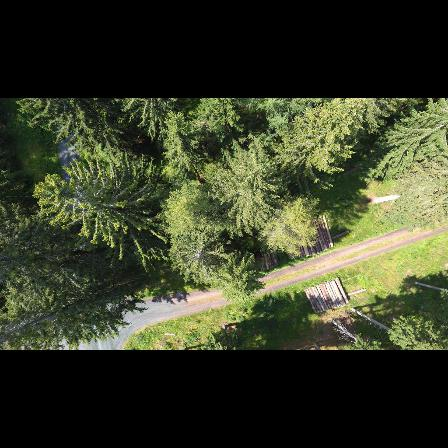Sick: (178, 233, 217, 280)
